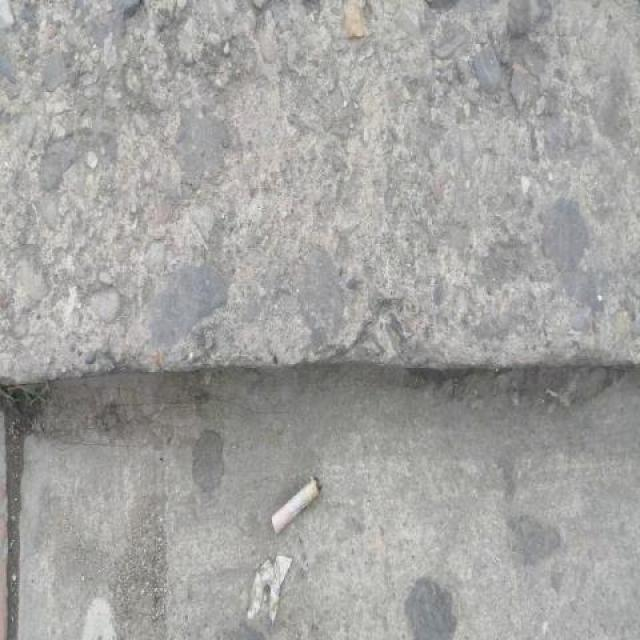non-organic waste: (265, 470, 326, 539)
